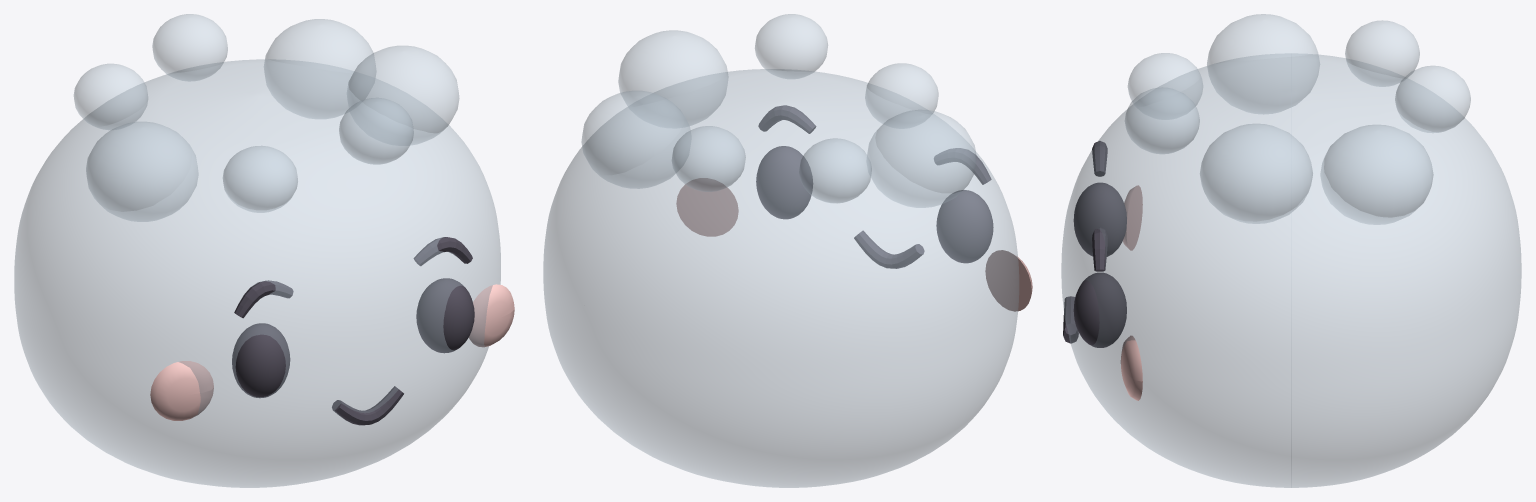
File: cloud-jelly-cc0.glb
The picture shows the model from 3 angles, left to right: view 1: azimuth 30°, elevation 25°; view 2: azimuth 150°, elevation 25°; view 3: azimuth 270°, elevation 25°; orthographic projection. The views are drawn at different scales.
Parts seen in each view (by area): view 1: body, crown, eye-right, eye-left, blush-left, blush-right, mouth, brow-left, brow-right; view 2: body, crown, eye-left, eye-right, blush-right, blush-left, mouth, brow-left, brow-right; view 3: body, crown, eye-right, eye-left, blush-right, blush-left, brow-right, mouth.
Boxes of the visible parts, bbox=[...] form: body: bbox=[14, 59, 500, 487]; crown: bbox=[74, 14, 459, 221]; eye-right: bbox=[416, 278, 474, 353]; eye-left: bbox=[232, 323, 290, 397]; blush-left: bbox=[150, 361, 213, 420]; blush-right: bbox=[469, 284, 514, 347]; mouth: bbox=[332, 386, 403, 425]; brow-left: bbox=[234, 280, 293, 318]; brow-right: bbox=[413, 237, 472, 265]; body: bbox=[543, 69, 1018, 487]; crown: bbox=[581, 14, 976, 207]; eye-left: bbox=[936, 190, 993, 263]; eye-right: bbox=[756, 146, 812, 219]; blush-right: bbox=[676, 178, 738, 236]; blush-left: bbox=[985, 250, 1032, 311]; mouth: bbox=[854, 230, 924, 268]; brow-left: bbox=[934, 148, 991, 184]; brow-right: bbox=[758, 105, 816, 133]; body: bbox=[1061, 53, 1521, 487]; crown: bbox=[1125, 14, 1470, 224]; eye-right: bbox=[1073, 272, 1126, 347]; eye-left: bbox=[1073, 182, 1126, 256]; blush-right: bbox=[1120, 335, 1142, 400]; blush-left: bbox=[1123, 185, 1142, 250]; brow-right: bbox=[1092, 227, 1107, 271]; mouth: bbox=[1063, 296, 1078, 343].
Bounding box in the file's own units: 0.314 × 0.2618 × 0.292.
